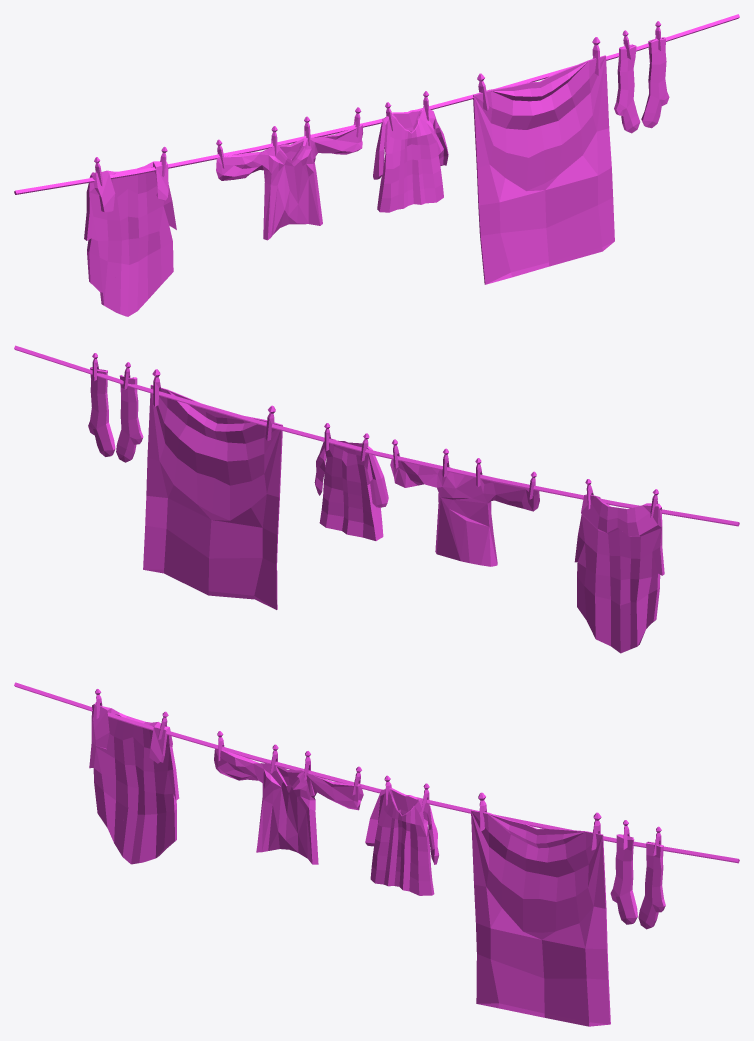
The model's file is SM_Clothesline_5m_Clothes_Fantasy.fbx.
3 views of the same model, one above another, from view 1: azimuth 30°, elevation 25°; view 2: azimuth 150°, elevation 25°; view 3: azimuth 330°, elevation 25° (orthographic).
Parts seen in each view (by area): view 1: SM_Clothesline_5m_Clothes_Fantasy; view 2: SM_Clothesline_5m_Clothes_Fantasy; view 3: SM_Clothesline_5m_Clothes_Fantasy.
Part boxes in pixels (x1=…): SM_Clothesline_5m_Clothes_Fantasy: x1=14, y1=14, x2=739, y2=316; SM_Clothesline_5m_Clothes_Fantasy: x1=14, y1=345, x2=739, y2=653; SM_Clothesline_5m_Clothes_Fantasy: x1=14, y1=682, x2=739, y2=1026.
Bounding box in the file's own units: 5 × 1.44 × 0.2006.
